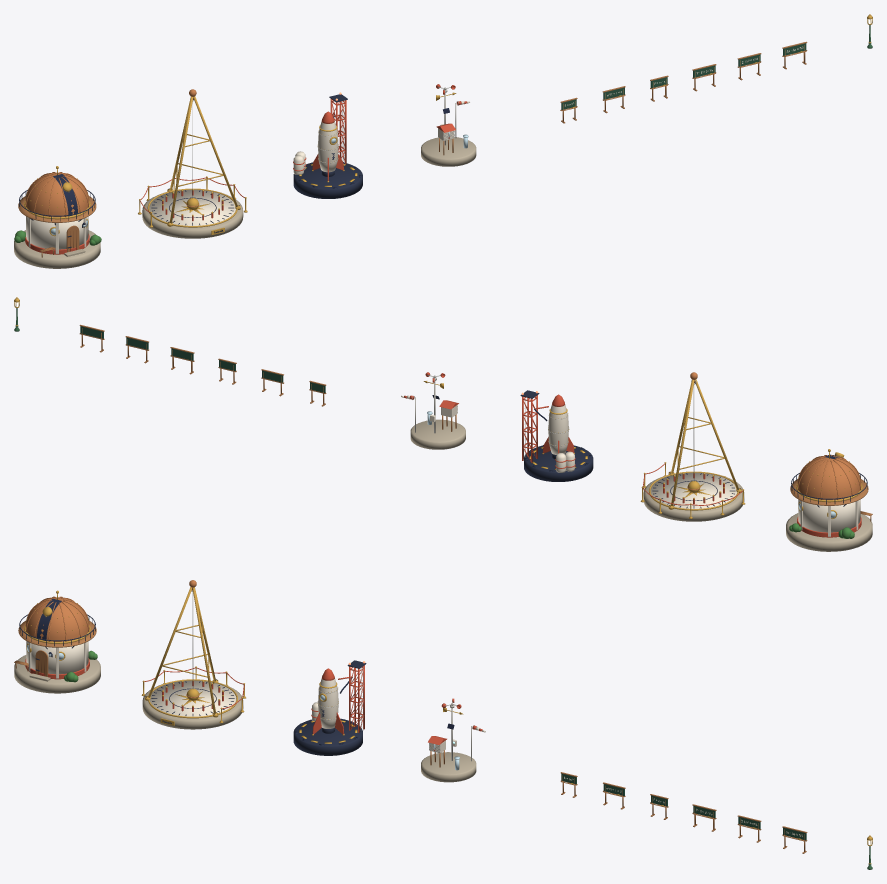
The model's file is landmarks.glb.
3 views of the same model, one above another, from view 1: azimuth 30°, elevation 25°; view 2: azimuth 150°, elevation 25°; view 3: azimuth 330°, elevation 25° (orthographic).
Visible parts, largest first — view 1: Pendulum_Floor, Rocket_Pad, Observatory_Dome, Observatory_Base, Pendulum_Base, Weather_Base, Observatory_Drum, Pendulum_Frame, Rocket_Body, Observatory_XRibs, Observatory_XWalk; view 2: Pendulum_Floor, Observatory_Dome, Rocket_Pad, Observatory_Base, Observatory_Drum, Weather_Base, Pendulum_Base, Pendulum_Frame, Rocket_Body, Rocket_Tower, Observatory_XRibs, Observatory_XWalk; view 3: Pendulum_Floor, Observatory_Dome, Rocket_Pad, Observatory_Base, Weather_Base, Pendulum_Base, Observatory_Drum, Pendulum_Frame, Rocket_Body, Rocket_Tower.
Boxes of the visible parts, box(x1,y1,x2,y2) form: Pendulum_Floor: box(149, 189, 235, 225); Rocket_Pad: box(293, 162, 362, 198); Observatory_Dome: box(25, 172, 89, 217); Observatory_Base: box(14, 230, 100, 268); Pendulum_Base: box(142, 192, 243, 238); Weather_Base: box(421, 137, 476, 166); Observatory_Drum: box(26, 216, 88, 249); Pendulum_Frame: box(167, 96, 240, 226); Rocket_Body: box(318, 121, 338, 172); Observatory_XRibs: box(25, 172, 88, 217); Observatory_XWalk: box(18, 196, 96, 222); Pendulum_Floor: box(650, 472, 737, 508); Observatory_Dome: box(797, 455, 861, 500); Rocket_Pad: box(524, 445, 593, 481); Observatory_Base: box(786, 513, 872, 551); Observatory_Drum: box(798, 499, 860, 532); Weather_Base: box(410, 419, 465, 449); Pendulum_Base: box(643, 475, 744, 521); Pendulum_Frame: box(668, 379, 741, 509); Rocket_Body: box(548, 404, 568, 454); Rocket_Tower: box(522, 395, 548, 462); Observatory_XRibs: box(797, 455, 861, 499); Observatory_XWalk: box(790, 479, 868, 505); Pendulum_Floor: box(149, 680, 236, 716); Observatory_Dome: box(25, 597, 89, 641); Rocket_Pad: box(293, 718, 362, 755); Observatory_Base: box(14, 655, 100, 693); Weather_Base: box(421, 752, 476, 782); Pendulum_Base: box(142, 683, 243, 729); Observatory_Drum: box(26, 641, 88, 674); Pendulum_Frame: box(145, 587, 218, 717); Rocket_Body: box(318, 678, 338, 728); Rocket_Tower: box(338, 665, 364, 732).
Bounding box in the file's own units: 56.7 × 8.12 × 6.1.
